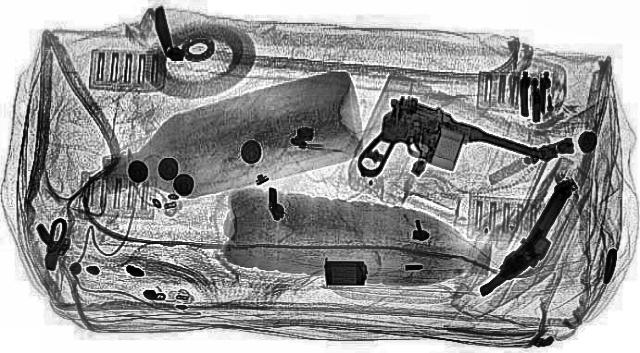Gun: (312, 92, 554, 212), (474, 178, 592, 298)
